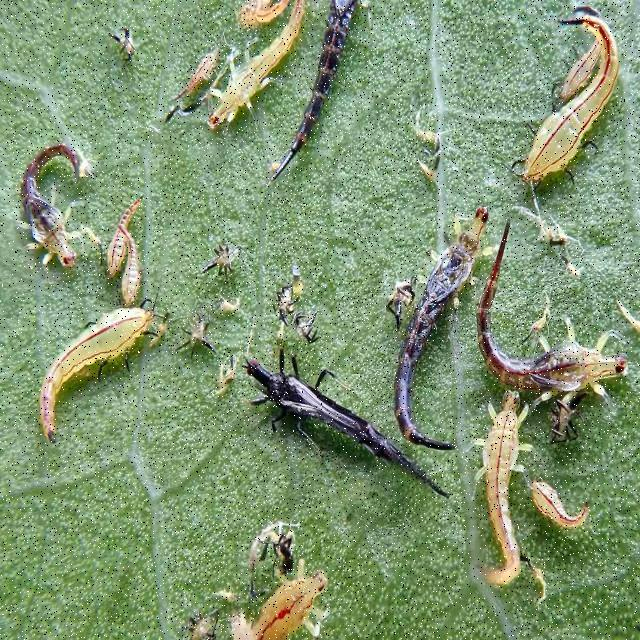Thrips: (222, 308, 444, 527), (445, 204, 632, 423), (177, 479, 376, 640), (375, 190, 488, 434), (517, 5, 629, 230), (26, 281, 164, 463), (462, 365, 527, 618), (505, 434, 598, 566), (145, 303, 236, 386), (265, 251, 323, 352), (199, 207, 247, 279)
